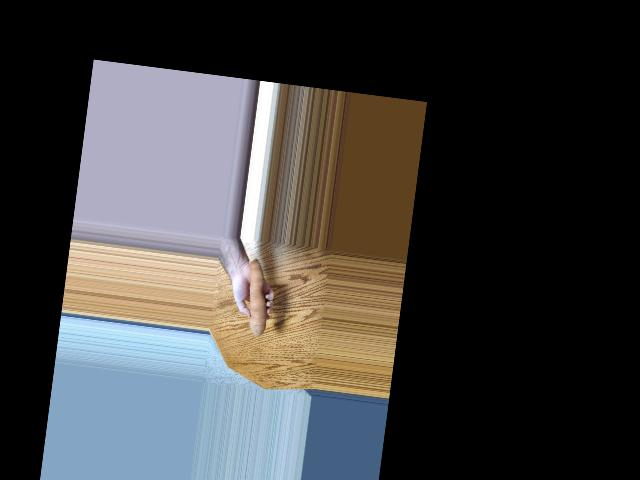sweet_potato: (239, 261, 278, 338)
